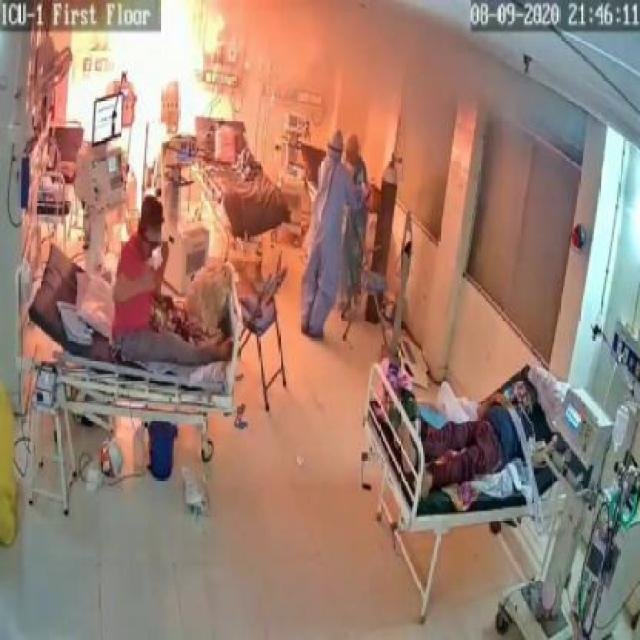fire: (104, 2, 230, 147)
smoke: (300, 3, 591, 154)
